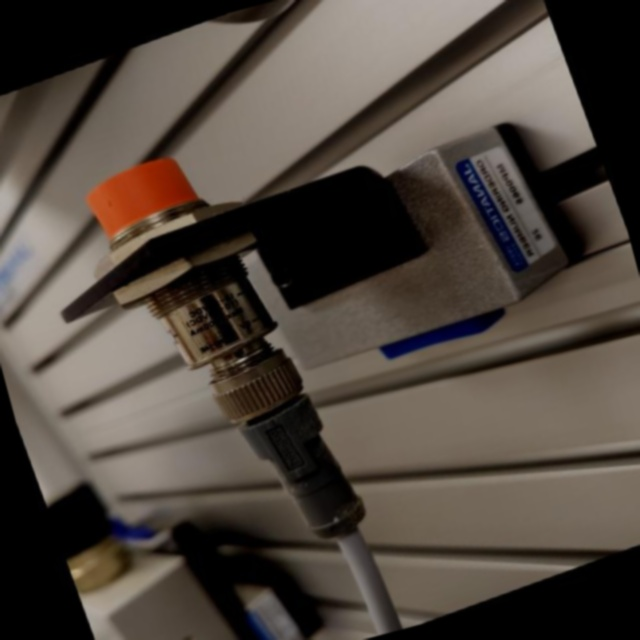inductive sensor: (2, 15, 640, 613)
